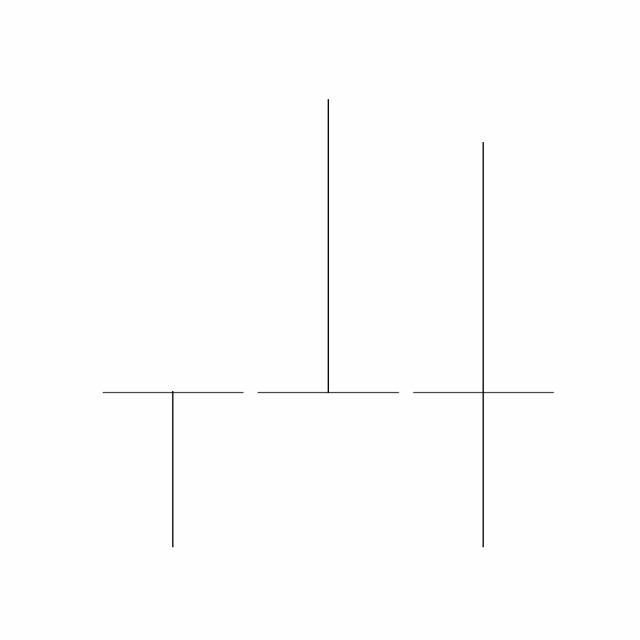Gravestone Doji: (250, 96, 407, 397)
